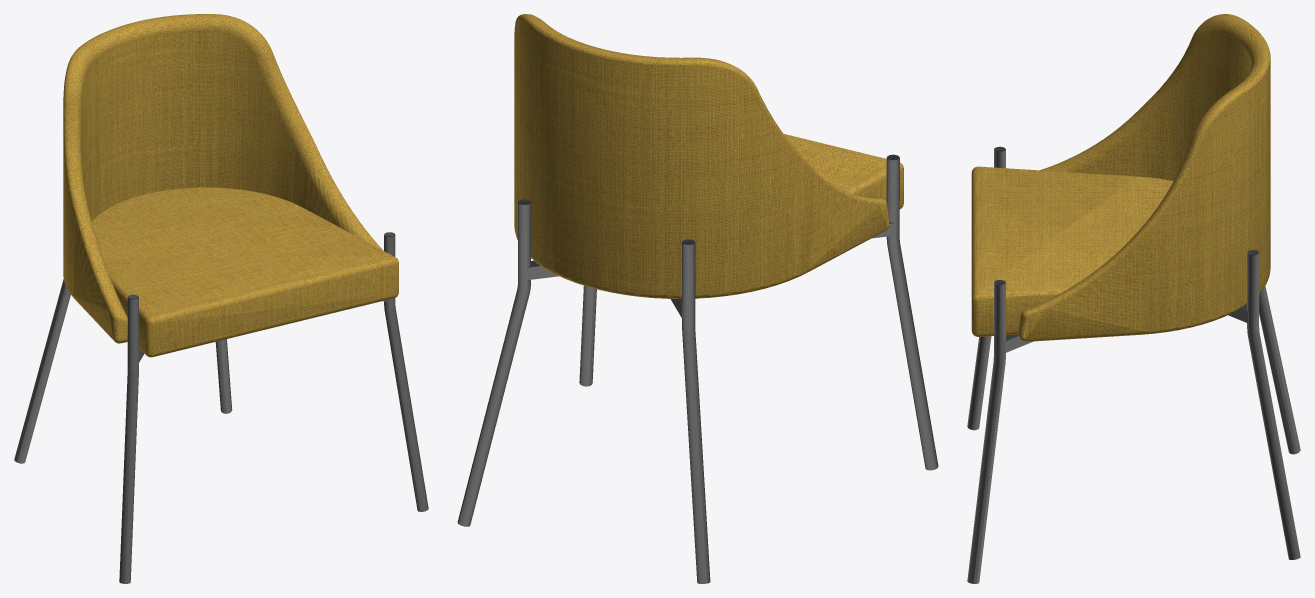
File: cozy-z.glb
3 views of the same model, side by side, from view 1: azimuth 30°, elevation 25°; view 2: azimuth 150°, elevation 25°; view 3: azimuth 270°, elevation 25° (orthographic). The views are drawn at different scales.
Parts seen in each view (by area): view 1: _0zlYatM099xOF01QM1_oh1, _0WHoQGobfBiPkLvELNJNqe, group_0; view 2: _0zlYatM099xOF01QM1_oh1, group_0, _0WHoQGobfBiPkLvELNJNqe; view 3: _0zlYatM099xOF01QM1_oh1, _0WHoQGobfBiPkLvELNJNqe, group_0.
Boxes of the visible parts, left/top/right/bottom form: _0zlYatM099xOF01QM1_oh1: left=63, top=14, right=382, bottom=343; _0WHoQGobfBiPkLvELNJNqe: left=91, top=187, right=398, bottom=357; group_0: left=14, top=232, right=428, bottom=583; _0zlYatM099xOF01QM1_oh1: left=514, top=14, right=889, bottom=298; group_0: left=457, top=154, right=938, bottom=583; _0WHoQGobfBiPkLvELNJNqe: left=784, top=134, right=903, bottom=209; _0zlYatM099xOF01QM1_oh1: left=1018, top=14, right=1270, bottom=341; _0WHoQGobfBiPkLvELNJNqe: left=971, top=166, right=1173, bottom=336; group_0: left=967, top=146, right=1300, bottom=583.
Size of the model in its own units: 1.29 by 1.69 by 1.13.
2 materials, 1 textured.
